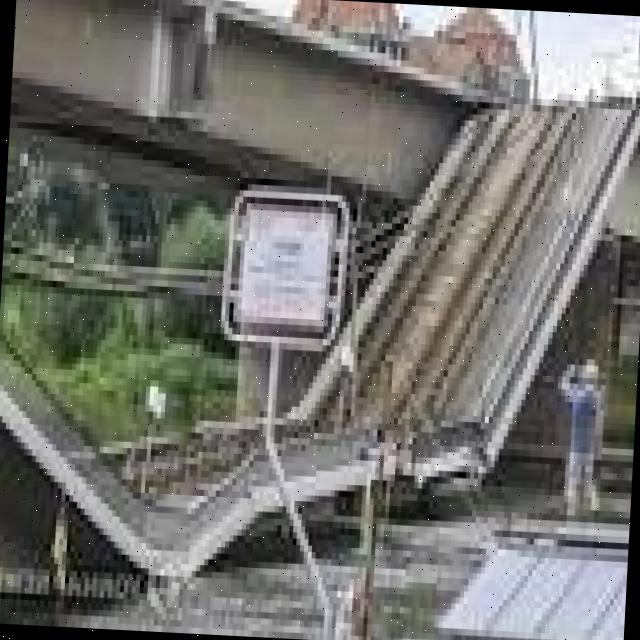bridge collapse: (0, 1, 636, 640)
